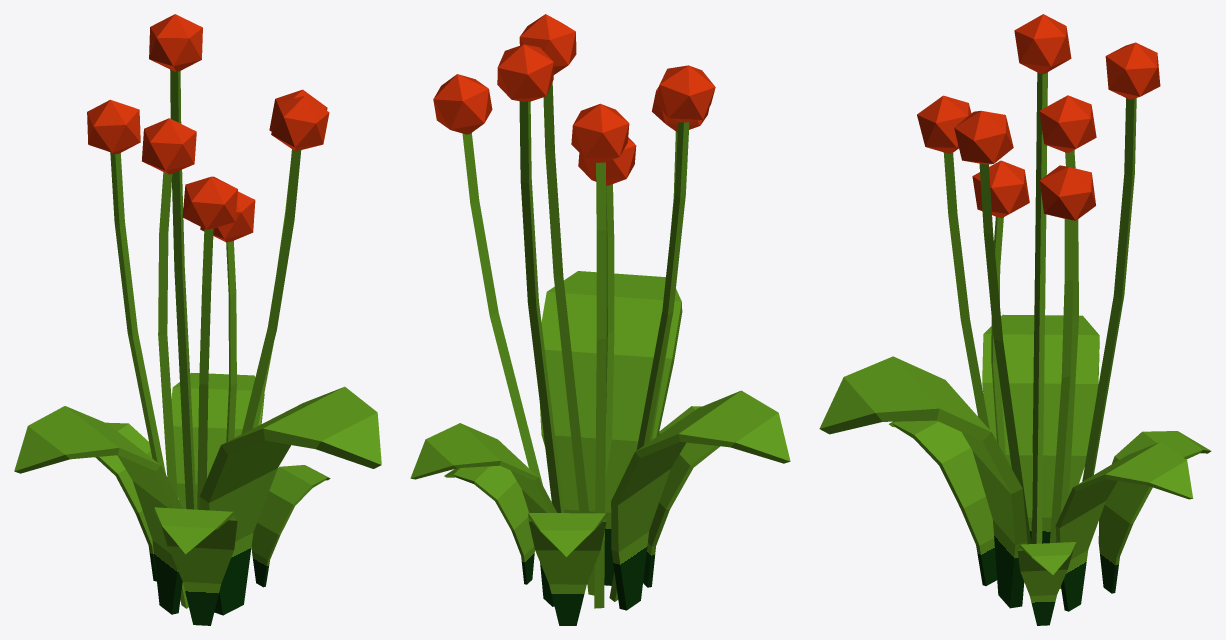
The model's file is flower2.glb.
The picture shows the model from 3 angles, left to right: view 1: azimuth 30°, elevation 25°; view 2: azimuth 150°, elevation 25°; view 3: azimuth 270°, elevation 25°; orthographic projection. The views are drawn at different scales.
Visible parts, largest first — view 1: flower2; view 2: flower2; view 3: flower2.
Boxes of the visible parts, left/top/right/bottom form: flower2: left=14, top=14, right=381, bottom=625; flower2: left=410, top=14, right=790, bottom=625; flower2: left=819, top=14, right=1211, bottom=625.
Size of the model in its own units: 0.7292 by 1.19 by 0.7519.
Materials: 1 (1 with a texture image).
